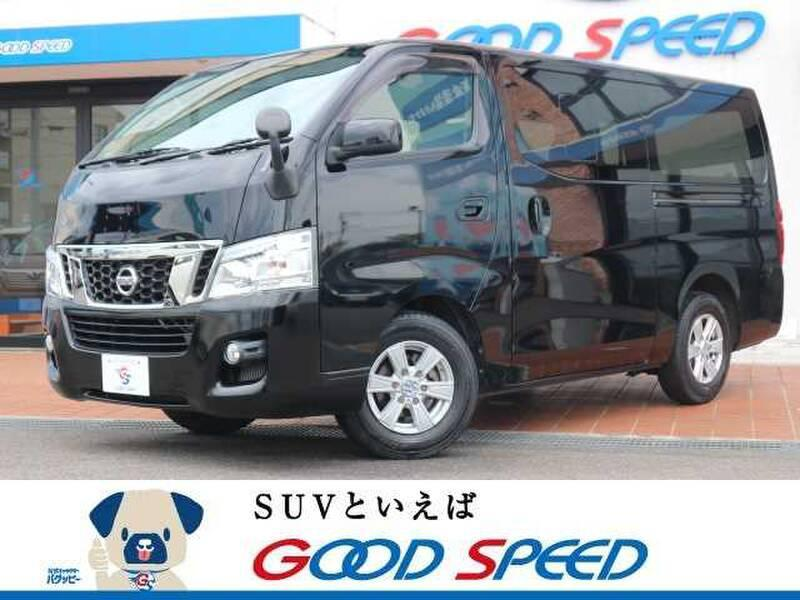van: (52, 25, 789, 425)
